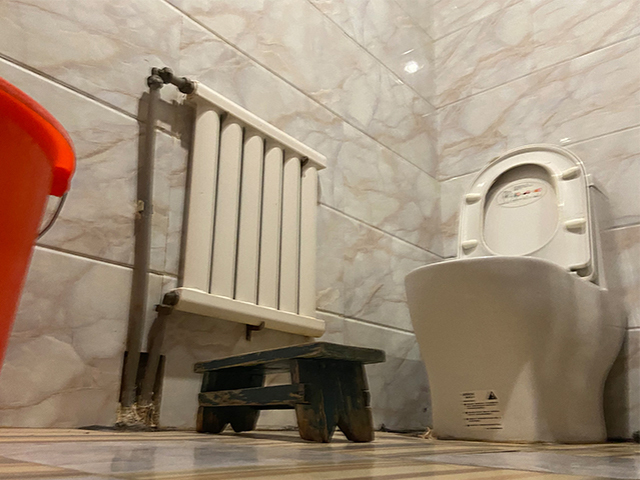closestool: (404, 142, 624, 446)
stool: (192, 341, 387, 442)
